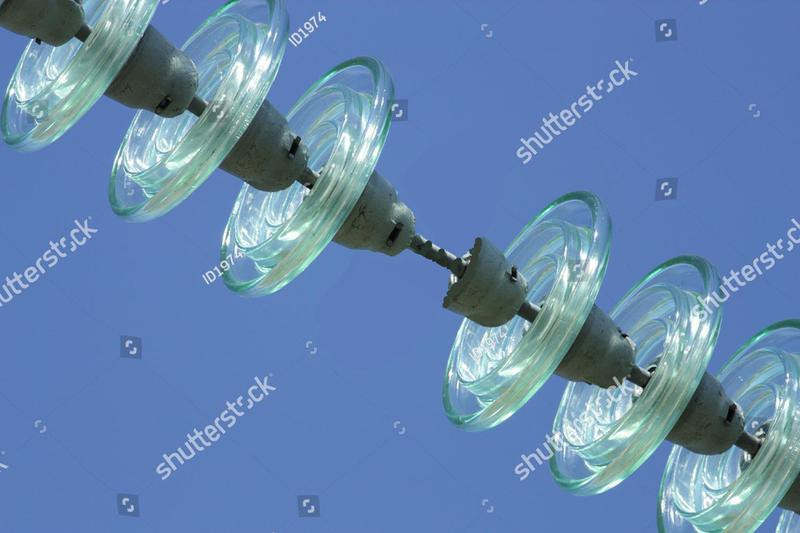gap: (215, 52, 614, 437)
